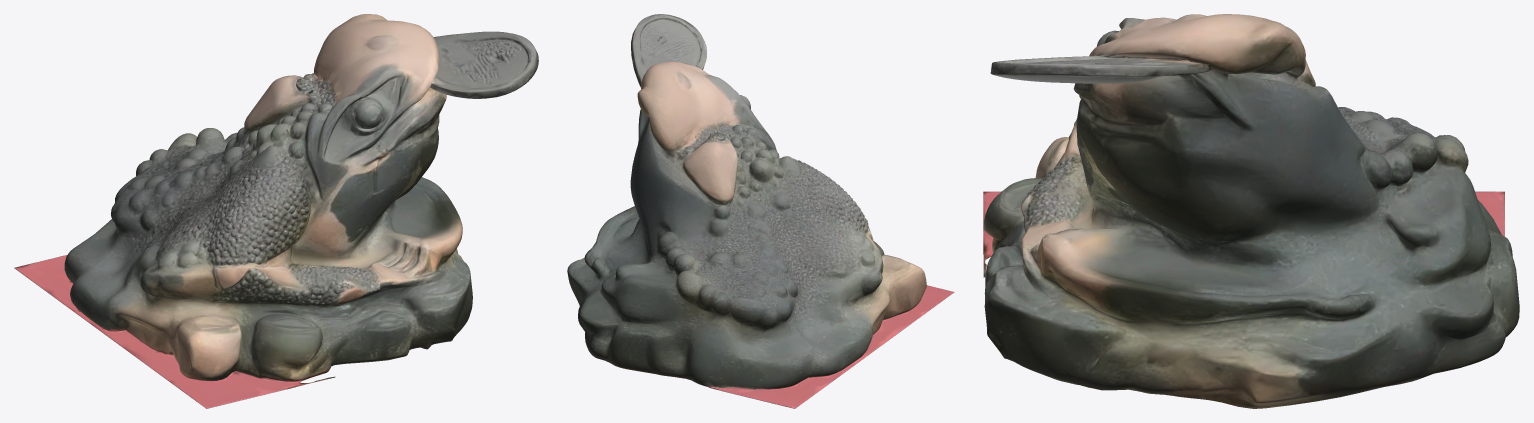
File: artifact.glb
3 renders of one model, left to right at view 1: azimuth 30°, elevation 25°; view 2: azimuth 150°, elevation 25°; view 3: azimuth 270°, elevation 25°, orthographic. The views are drawn at different scales.
Visible parts, largest first — view 1: node_0; view 2: node_0; view 3: node_0.
Part boxes in pixels (<box>): node_0: <box>14,14,538,408</box>; node_0: <box>567,14,954,408</box>; node_0: <box>983,14,1519,408</box>.
Bounding box in the file's own units: 0.7647 × 0.5514 × 0.7462.
Materials: 1 (1 with a texture image).
